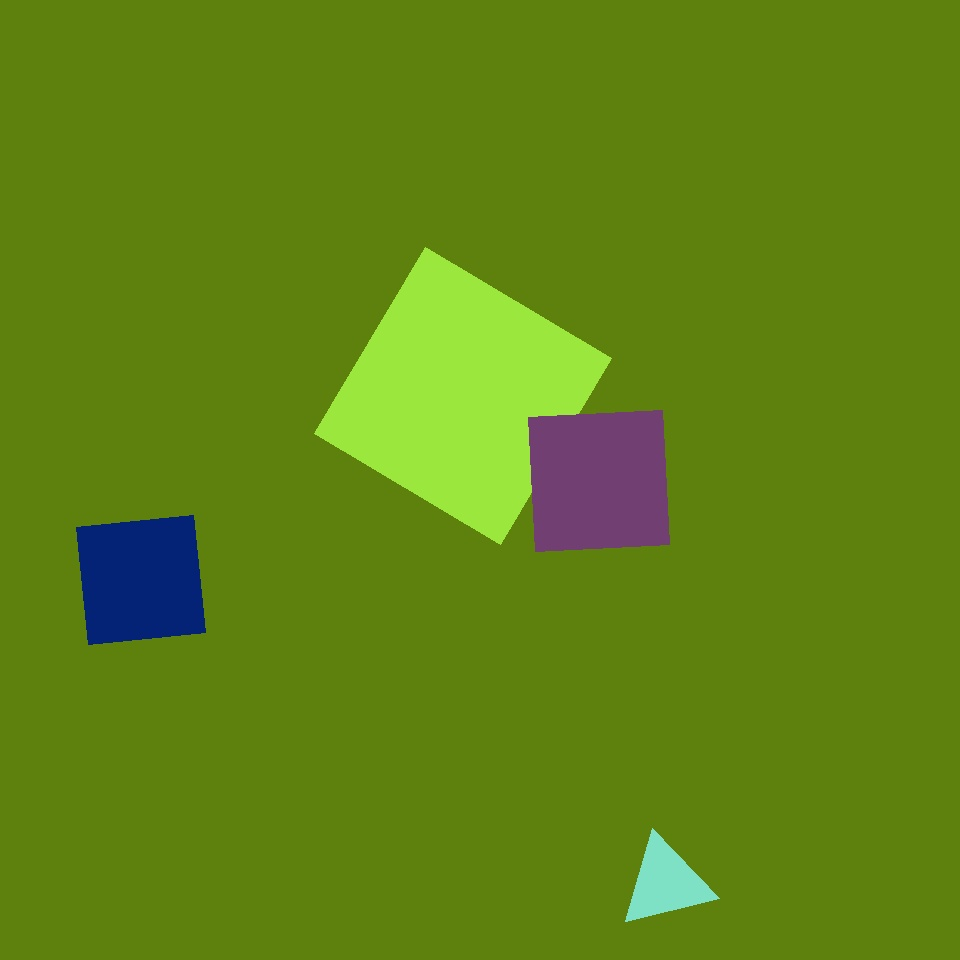circle: (619, 836, 713, 930)
square: (314, 248, 612, 544), (528, 411, 670, 552), (77, 516, 206, 644)
